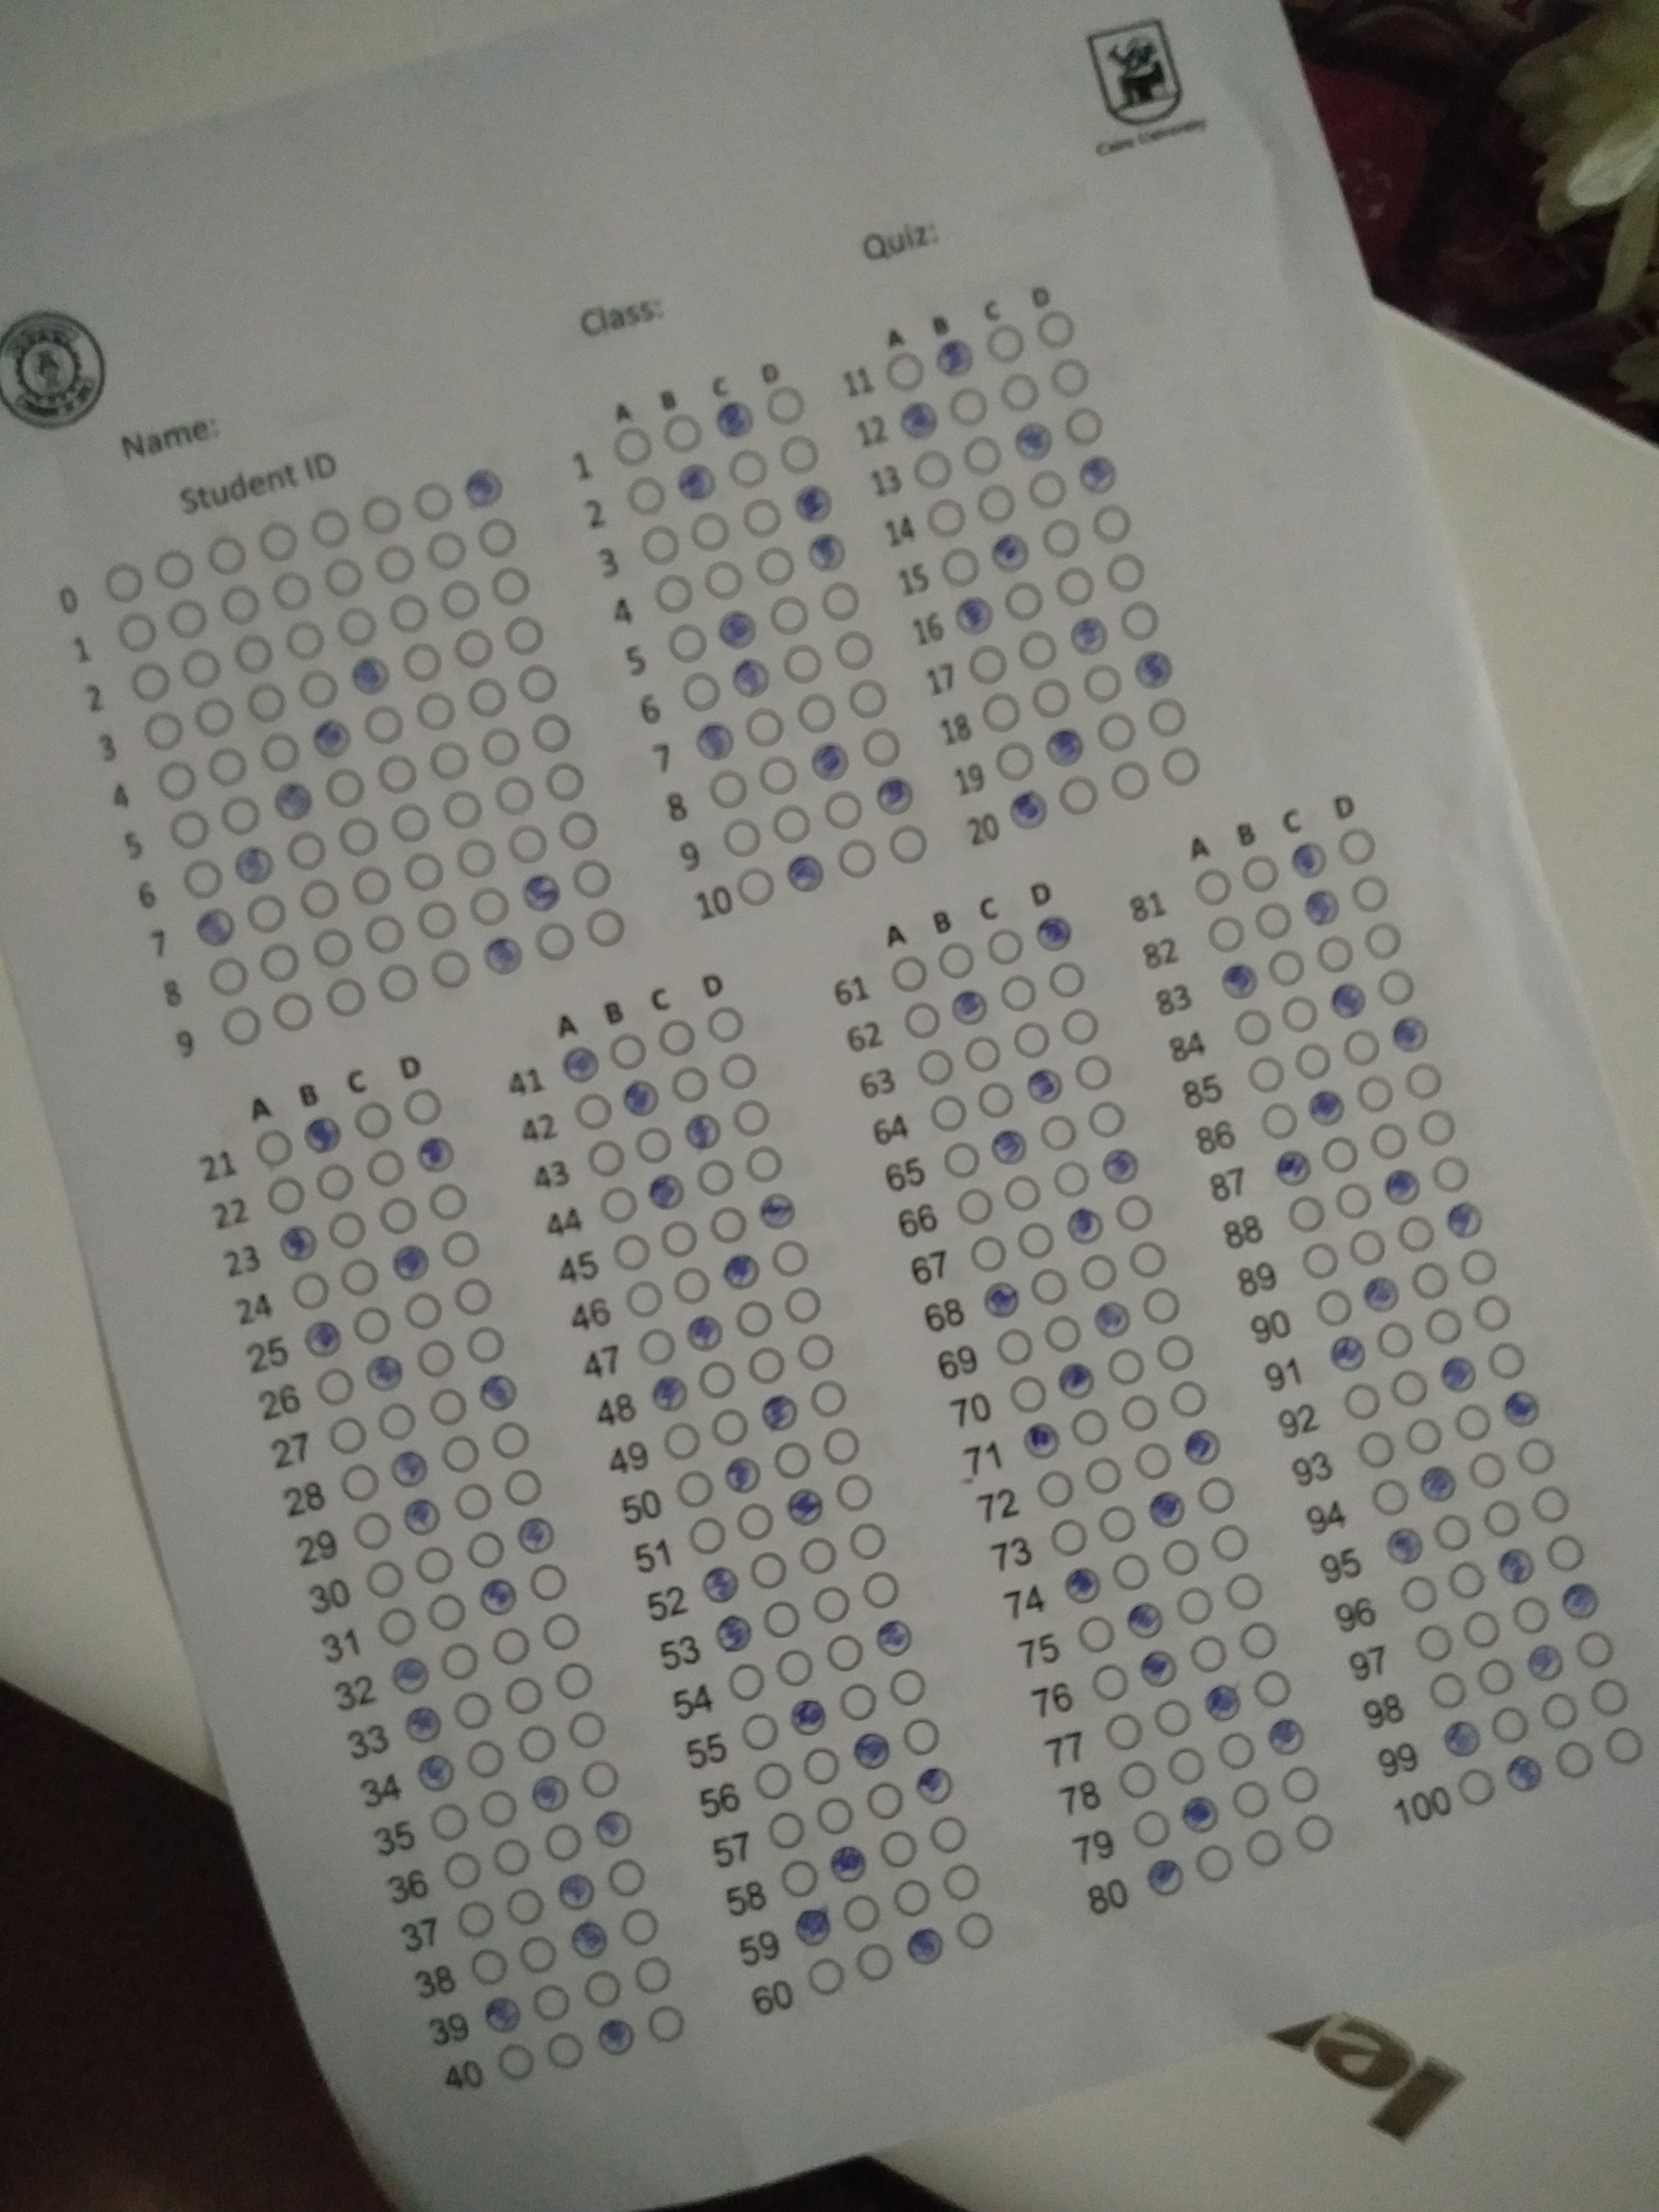not-c: (101, 561, 146, 606), (254, 521, 300, 566), (361, 495, 406, 540), (411, 481, 457, 526), (375, 542, 420, 587), (166, 597, 211, 643), (115, 610, 160, 655), (178, 646, 223, 691), (451, 627, 497, 672), (399, 641, 444, 686), (296, 667, 342, 712), (246, 683, 291, 728), (192, 697, 237, 742), (153, 759, 199, 805), (258, 732, 303, 777), (465, 676, 511, 721), (528, 711, 573, 756), (570, 857, 615, 902), (493, 775, 538, 820), (376, 751, 422, 796), (216, 794, 261, 840), (298, 878, 343, 923), (206, 954, 251, 1000), (310, 927, 355, 972), (467, 885, 512, 930), (584, 906, 629, 951), (532, 920, 577, 965), (324, 975, 369, 1021), (251, 1125, 296, 1170), (263, 1174, 308, 1219), (288, 1268, 333, 1313), (312, 1366, 357, 1411), (326, 1416, 371, 1461), (336, 1461, 382, 1507), (326, 1209, 371, 1254), (427, 1179, 472, 1224), (437, 1228, 483, 1273), (401, 1291, 446, 1336), (488, 1416, 533, 1461), (500, 1467, 545, 1512), (350, 1510, 396, 1555), (423, 1590, 469, 1635), (488, 1625, 533, 1670), (538, 1611, 584, 1656), (552, 1660, 598, 1705), (450, 1688, 495, 1733), (579, 1757, 624, 1803), (476, 1785, 521, 1831), (439, 1848, 484, 1893), (502, 1885, 547, 1930), (467, 1946, 512, 1991), (516, 1933, 561, 1979), (631, 1952, 676, 1998), (544, 2029, 589, 2074), (725, 1662, 770, 1707), (885, 1665, 931, 1710), (812, 1796, 857, 1841), (863, 1780, 908, 1825), (951, 1909, 997, 1954), (809, 1583, 854, 1629), (857, 1568, 903, 1613), (758, 1595, 803, 1641), (807, 1376, 852, 1421), (781, 1284, 826, 1329), (655, 1015, 701, 1061), (598, 1184, 643, 1230), (631, 1123, 676, 1169), (885, 822, 931, 867), (680, 671, 725, 716), (831, 629, 877, 674), (666, 620, 711, 665), (739, 498, 784, 543), (624, 475, 669, 521), (1033, 308, 1079, 354), (960, 434, 1006, 479), (1053, 566, 1098, 611), (1080, 662, 1126, 707), (1093, 711, 1138, 756), (889, 951, 934, 996), (934, 939, 979, 984), (1044, 960, 1089, 1005), (901, 998, 946, 1043), (913, 1045, 958, 1090), (1037, 1113, 1082, 1158), (1084, 1097, 1129, 1143), (1049, 1157, 1094, 1202), (1114, 1191, 1159, 1237), (992, 1325, 1037, 1371), (1006, 1372, 1051, 1418), (1068, 1404, 1114, 1449), (1131, 1440, 1176, 1486), (1033, 1467, 1079, 1512), (1222, 1571, 1267, 1616), (1279, 1763, 1324, 1808), (1241, 1827, 1286, 1872), (1237, 853, 1283, 899), (1251, 900, 1297, 946), (153, 549, 197, 594), (206, 535, 249, 580), (308, 509, 352, 554), (476, 514, 519, 559), (427, 529, 471, 575), (324, 557, 368, 603), (270, 570, 314, 615), (218, 583, 261, 629), (127, 660, 171, 705), (232, 634, 275, 679), (282, 618, 326, 664), (336, 604, 380, 650), (387, 592, 430, 637), (439, 580, 483, 625), (490, 564, 533, 610), (504, 613, 547, 658), (141, 711, 185, 756), (206, 744, 249, 789), (362, 704, 406, 749), (415, 691, 458, 737), (516, 664, 559, 709), (544, 761, 587, 806), (556, 808, 599, 853), (507, 824, 551, 869), (479, 725, 523, 770), (429, 740, 472, 786), (324, 766, 368, 812), (169, 810, 213, 855), (179, 859, 223, 904), (284, 829, 328, 874), (336, 815, 380, 860), (387, 803, 430, 848), (439, 789, 483, 834), (455, 836, 498, 881), (403, 852, 446, 897), (350, 864, 394, 909), (246, 892, 289, 937), (258, 942, 301, 988), (364, 914, 408, 960), (429, 949, 472, 995), (378, 960, 422, 1005), (270, 989, 314, 1035), (220, 1003, 263, 1049), (375, 1400, 418, 1446), (350, 1305, 394, 1350), (342, 1258, 385, 1303), (315, 1162, 359, 1207), (352, 1101, 396, 1146), (401, 1087, 444, 1132), (364, 1146, 408, 1191), (376, 1195, 420, 1240), (451, 1275, 495, 1320), (465, 1324, 509, 1369), (415, 1338, 458, 1383), (427, 1386, 471, 1432), (439, 1432, 483, 1477), (453, 1480, 497, 1526), (362, 1557, 406, 1602), (415, 1545, 458, 1590), (464, 1529, 507, 1575), (526, 1559, 570, 1604), (375, 1606, 418, 1651), (504, 1674, 547, 1719), (464, 1737, 507, 1782), (516, 1721, 559, 1766), (566, 1709, 610, 1754), (427, 1799, 471, 1844), (490, 1836, 533, 1881), (542, 1822, 586, 1867), (455, 1898, 498, 1944), (619, 1905, 662, 1951), (582, 1968, 626, 2013), (530, 1980, 573, 2026), (495, 2040, 538, 2085), (645, 2001, 688, 2047), (805, 1956, 849, 2001), (852, 1942, 896, 1987), (838, 1893, 884, 1937), (777, 1857, 821, 1902), (765, 1810, 809, 1855), (751, 1759, 795, 1804), (739, 1710, 782, 1756), (772, 1648, 816, 1693), (821, 1634, 866, 1677), (836, 1681, 880, 1726), (899, 1716, 943, 1761), (800, 1745, 843, 1791), (877, 1829, 920, 1874), (927, 1813, 971, 1858), (939, 1860, 983, 1905), (890, 1878, 934, 1923), (796, 1534, 840, 1580), (845, 1521, 890, 1564), (749, 1550, 793, 1595), (735, 1501, 779, 1547), (685, 1514, 728, 1559), (674, 1468, 718, 1514), (770, 1439, 814, 1484), (819, 1425, 863, 1470), (833, 1472, 877, 1517), (795, 1331, 838, 1376), (746, 1343, 789, 1388), (695, 1357, 739, 1402), (709, 1406, 753, 1451), (662, 1420, 706, 1465), (767, 1237, 810, 1282), (744, 1144, 788, 1190), (718, 1050, 762, 1096), (702, 1003, 746, 1049), (669, 1062, 713, 1108), (694, 1157, 737, 1202), (708, 1202, 751, 1247), (669, 1264, 713, 1310), (620, 1278, 664, 1324), (612, 1230, 655, 1275), (584, 1136, 627, 1181), (573, 1090, 617, 1136), (606, 1031, 650, 1076), (732, 1296, 775, 1341), (634, 1324, 678, 1369), (735, 866, 779, 911), (720, 817, 763, 862), (758, 756, 802, 801), (770, 801, 814, 846), (821, 789, 864, 834), (861, 728, 904, 773), (796, 691, 840, 737), (781, 643, 824, 688), (819, 580, 863, 625), (770, 594, 814, 639), (652, 573, 695, 618), (701, 559, 744, 604), (753, 545, 796, 590), (688, 510, 732, 556), (638, 523, 681, 568), (727, 448, 770, 493), (777, 434, 821, 479), (763, 385, 807, 430), (660, 411, 704, 456), (612, 425, 655, 470), (884, 350, 927, 395), (985, 322, 1028, 368), (1049, 355, 1093, 401), (999, 369, 1042, 415), (946, 383, 990, 428), (911, 446, 955, 491), (1061, 404, 1105, 449), (1026, 465, 1070, 510), (976, 481, 1019, 526), (939, 545, 983, 590), (1040, 516, 1084, 561), (1089, 503, 1133, 549), (1105, 552, 1148, 597), (1002, 580, 1046, 625), (965, 641, 1009, 686), (1016, 629, 1060, 674), (1119, 599, 1162, 644), (1030, 678, 1073, 723), (978, 691, 1021, 737), (992, 740, 1035, 786), (1147, 695, 1190, 740), (1159, 745, 1202, 791), (1108, 759, 1152, 805), (983, 927, 1026, 972), (997, 972, 1040, 1017), (962, 1033, 1006, 1078), (1009, 1019, 1053, 1064), (1060, 1005, 1103, 1050), (1072, 1050, 1115, 1096), (976, 1078, 1019, 1123), (925, 1092, 969, 1137), (939, 1137, 983, 1183), (1000, 1170, 1044, 1216), (953, 1184, 997, 1230), (965, 1231, 1009, 1277), (1014, 1219, 1058, 1264), (1126, 1237, 1169, 1282), (1075, 1251, 1119, 1296), (1028, 1264, 1072, 1310), (1040, 1312, 1084, 1357), (1140, 1285, 1183, 1331), (1152, 1331, 1197, 1374), (1105, 1346, 1148, 1392), (1117, 1392, 1161, 1437), (1166, 1378, 1209, 1423), (1080, 1453, 1124, 1498), (1047, 1517, 1091, 1562), (1096, 1503, 1140, 1548), (1197, 1474, 1241, 1519), (1209, 1521, 1253, 1566), (1159, 1536, 1202, 1581), (1110, 1552, 1154, 1597), (1075, 1613, 1119, 1658), (1089, 1660, 1133, 1705), (1173, 1585, 1216, 1630), (1237, 1620, 1281, 1665), (1187, 1634, 1230, 1679), (1251, 1669, 1295, 1714), (1150, 1696, 1194, 1742), (1103, 1710, 1147, 1756), (1115, 1757, 1159, 1803), (1164, 1745, 1208, 1791), (1215, 1730, 1258, 1775), (1229, 1780, 1272, 1825), (1129, 1808, 1173, 1853), (1192, 1843, 1237, 1886), (1293, 1811, 1337, 1857), (1190, 866, 1234, 911), (1335, 826, 1380, 869), (1349, 873, 1392, 918), (1204, 913, 1248, 958), (415, 900, 458, 944), (437, 1641, 481, 1684), (605, 1855, 648, 1898), (732, 1097, 775, 1141), (657, 1217, 701, 1261), (708, 768, 751, 812), (835, 838, 878, 881), (847, 679, 890, 723), (742, 705, 786, 749), (925, 496, 969, 540), (1056, 775, 1100, 819), (1279, 995, 1321, 1038), (1291, 1040, 1333, 1083), (1319, 1134, 1361, 1177), (1286, 1195, 1328, 1238), (1394, 1214, 1436, 1258), (1408, 1261, 1450, 1305), (1375, 1318, 1417, 1362), (1486, 1339, 1528, 1383), (1389, 1369, 1431, 1413), (1342, 1381, 1384, 1425), (1356, 1428, 1398, 1472), (1467, 1449, 1509, 1493), (1431, 1512, 1473, 1555), (1446, 1559, 1488, 1602), (1398, 1575, 1439, 1618), (1511, 1594, 1553, 1637), (1575, 1629, 1617, 1672), (1476, 1658, 1518, 1702), (1589, 1677, 1631, 1721), (1455, 1764, 1497, 1808), (1375, 967, 1417, 1008), (1403, 1061, 1445, 1103), (1368, 1122, 1410, 1163), (1333, 1181, 1375, 1223), (1298, 1242, 1340, 1284), (1403, 1416, 1445, 1458), (1544, 1533, 1586, 1575), (1267, 948, 1307, 991), (1363, 920, 1403, 963), (1234, 1007, 1274, 1050), (1246, 1054, 1286, 1097), (1340, 1026, 1380, 1069), (1260, 1099, 1300, 1143), (1417, 1106, 1457, 1150), (1431, 1153, 1471, 1197), (1424, 1305, 1464, 1348), (1453, 1402, 1493, 1446), (1516, 1437, 1556, 1480), (1370, 1477, 1410, 1521), (1530, 1484, 1570, 1527), (1415, 1622, 1455, 1665), (1427, 1670, 1467, 1714), (1462, 1609, 1502, 1653), (1490, 1703, 1530, 1747), (1539, 1691, 1579, 1735), (1605, 1726, 1645, 1770), (1554, 1738, 1595, 1782), (1316, 935, 1356, 977), (1356, 1073, 1396, 1115), (1347, 1228, 1387, 1270), (1459, 1247, 1499, 1289), (1314, 1289, 1354, 1331), (1473, 1294, 1513, 1336), (1481, 1500, 1521, 1541)
taken-c: (308, 719, 354, 763), (270, 782, 315, 826), (192, 907, 237, 951), (481, 937, 526, 981), (519, 873, 565, 916), (300, 1318, 345, 1362), (399, 1496, 444, 1540), (514, 1514, 559, 1557), (476, 1578, 521, 1622), (387, 1655, 432, 1698), (399, 1703, 444, 1747), (528, 1773, 573, 1817), (592, 1808, 638, 1851), (554, 1872, 599, 1916), (481, 1994, 526, 2038), (828, 1843, 873, 1886), (849, 1730, 894, 1773), (788, 1696, 833, 1740), (871, 1618, 917, 1662), (711, 1615, 756, 1658), (699, 1564, 744, 1608), (721, 1454, 767, 1498), (718, 1251, 763, 1294), (645, 1170, 690, 1214), (559, 1045, 605, 1089), (809, 742, 854, 786), (694, 721, 739, 765), (713, 401, 758, 444), (896, 401, 941, 444), (932, 338, 978, 381), (1011, 421, 1056, 465), (1075, 455, 1121, 498), (951, 596, 997, 639), (1066, 615, 1112, 658), (1044, 728, 1089, 772), (948, 986, 993, 1029), (1063, 1204, 1108, 1247), (979, 1278, 1025, 1322), (1182, 1425, 1227, 1468), (1122, 1597, 1168, 1641), (1141, 1857, 1187, 1900), (1523, 1642, 1568, 1686), (1558, 1580, 1603, 1623), (1493, 1545, 1539, 1588), (1380, 1167, 1425, 1211), (1303, 1089, 1349, 1132), (462, 465, 505, 509), (349, 657, 392, 700), (232, 845, 275, 888), (300, 1115, 343, 1158), (415, 1134, 458, 1177), (275, 1223, 319, 1266), (362, 1353, 406, 1397), (570, 1918, 613, 1961), (915, 1764, 958, 1808), (758, 1393, 802, 1437), (648, 1374, 692, 1418), (683, 1313, 727, 1357), (756, 1191, 800, 1235), (620, 1078, 664, 1122), (730, 658, 774, 702), (1033, 913, 1077, 956), (1091, 1298, 1134, 1341), (1147, 1489, 1190, 1533), (1138, 1648, 1182, 1691), (1265, 1716, 1309, 1759), (1439, 1716, 1483, 1759), (1417, 1463, 1460, 1507), (1361, 1275, 1405, 1318), (1445, 1198, 1488, 1242), (1272, 1148, 1316, 1191), (1389, 1014, 1432, 1057), (1328, 979, 1371, 1022), (387, 1242, 432, 1284), (413, 1752, 458, 1794), (594, 2017, 640, 2059), (903, 1926, 948, 1968), (789, 1907, 835, 1949), (782, 1487, 828, 1529), (681, 1113, 727, 1155), (782, 853, 828, 895), (714, 610, 760, 651), (674, 463, 720, 505), (988, 533, 1033, 575), (1131, 650, 1176, 691), (1023, 1064, 1068, 1106), (988, 1127, 1033, 1169), (1098, 1146, 1143, 1188), (1019, 1420, 1065, 1461), (1061, 1566, 1107, 1608), (1201, 1684, 1246, 1726), (1382, 1524, 1427, 1566), (1500, 1390, 1546, 1432), (1436, 1355, 1481, 1397), (1326, 1334, 1371, 1376), (1218, 961, 1263, 1003), (1288, 840, 1333, 881), (477, 1372, 521, 1414), (387, 1449, 430, 1491), (873, 779, 917, 820), (805, 533, 849, 575), (793, 486, 836, 528), (1007, 789, 1051, 831), (1056, 1360, 1100, 1402), (1180, 1796, 1223, 1838), (1504, 1754, 1547, 1796), (1302, 888, 1345, 930)
